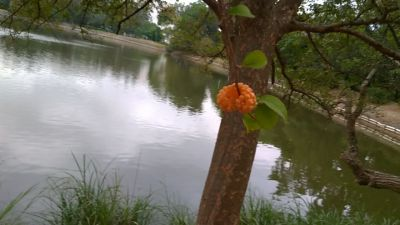eggs: (214, 82, 258, 113)
